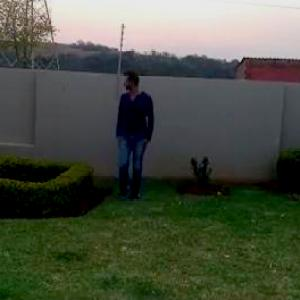follow: (115, 66, 158, 209)
